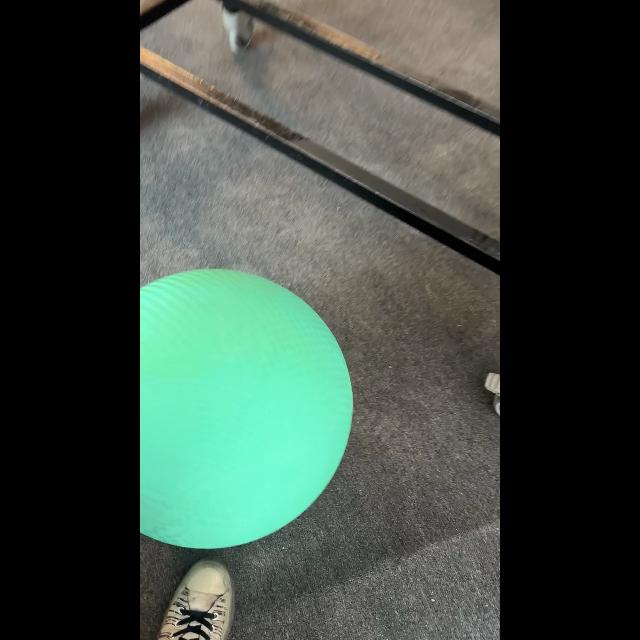ALGAE: (140, 267, 354, 549)
